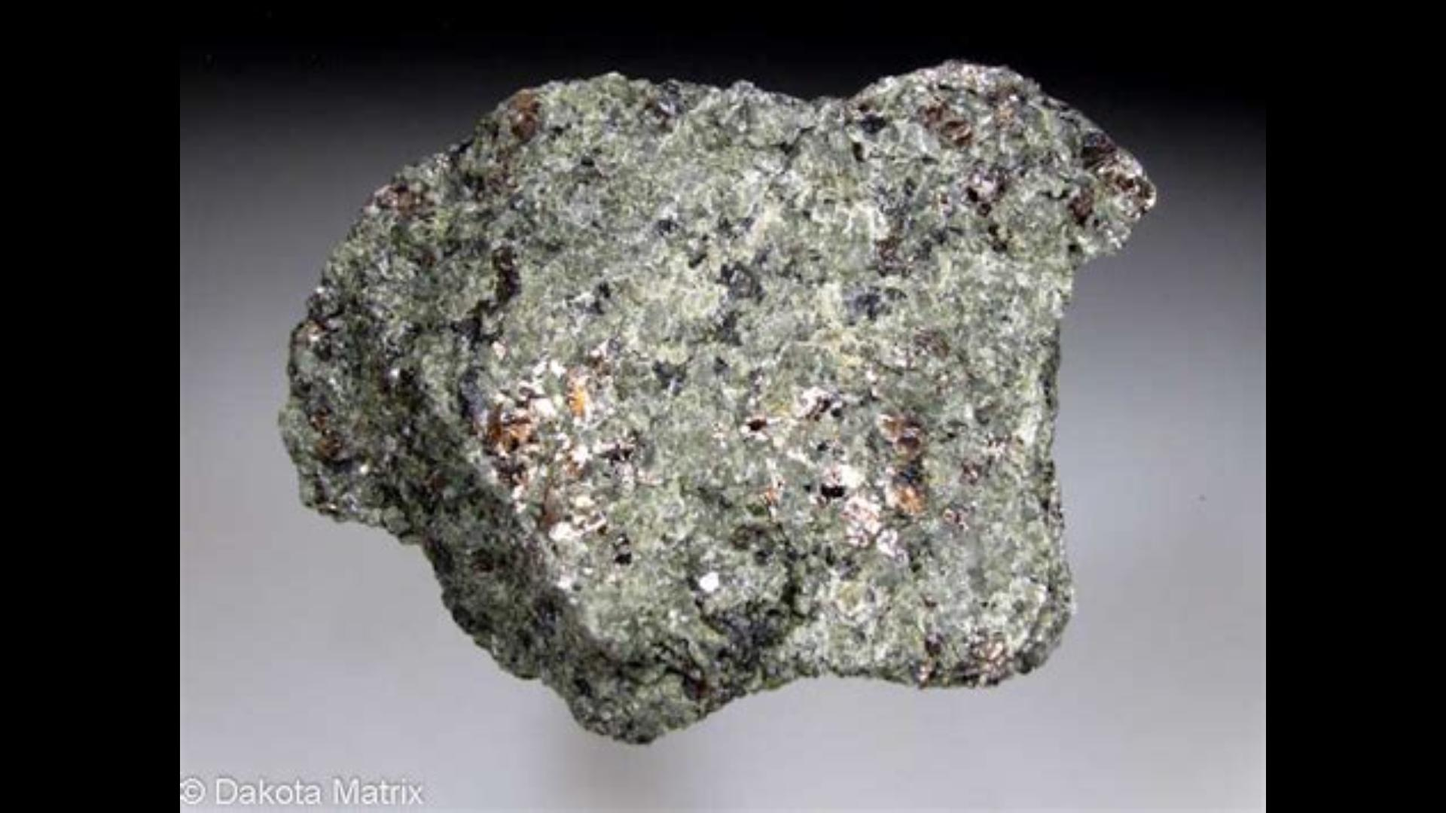rock: (283, 62, 1154, 737)
